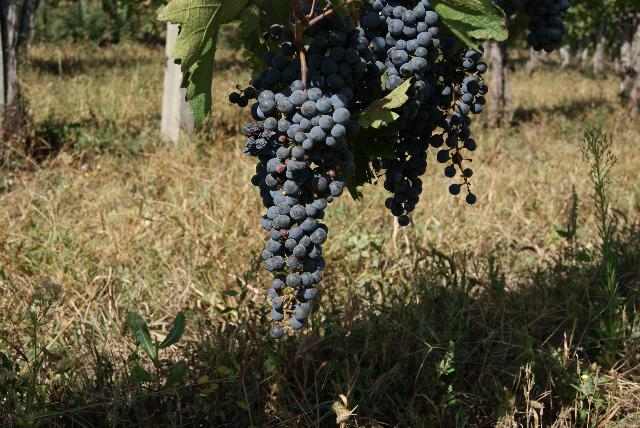grapes: (244, 80, 359, 339), (361, 1, 442, 226), (438, 49, 488, 205)
